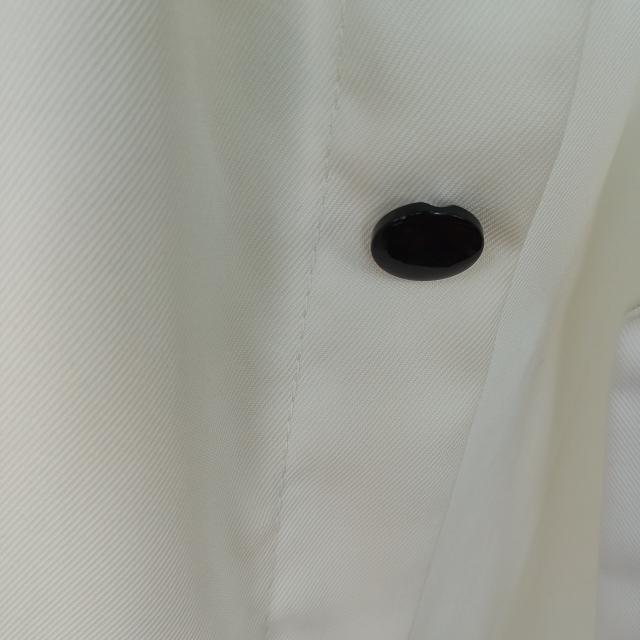education_male_uniform: (157, 75, 640, 551)
